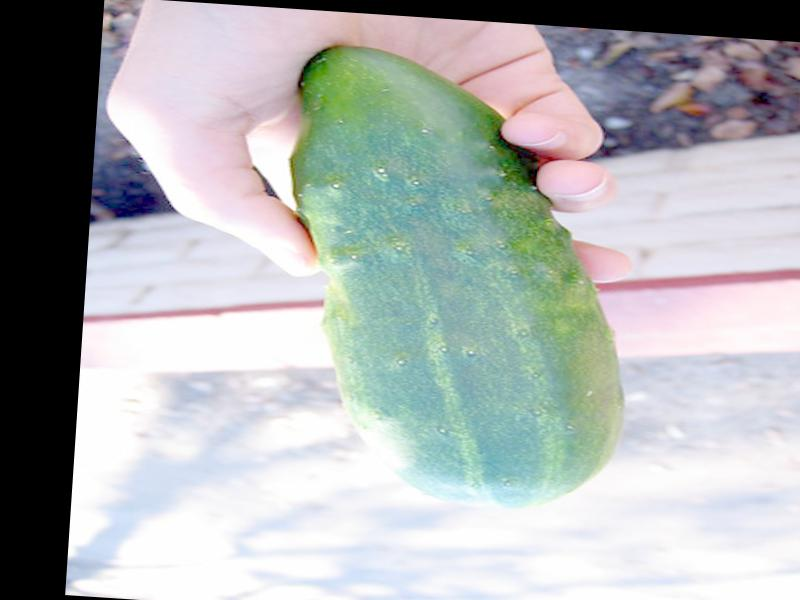Cucumber: (271, 43, 649, 513)
